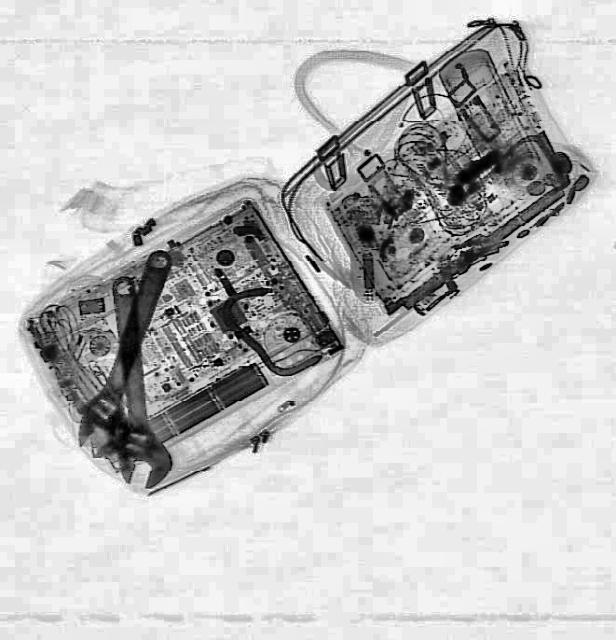Wrench: (60, 242, 196, 466), (98, 273, 174, 491)
